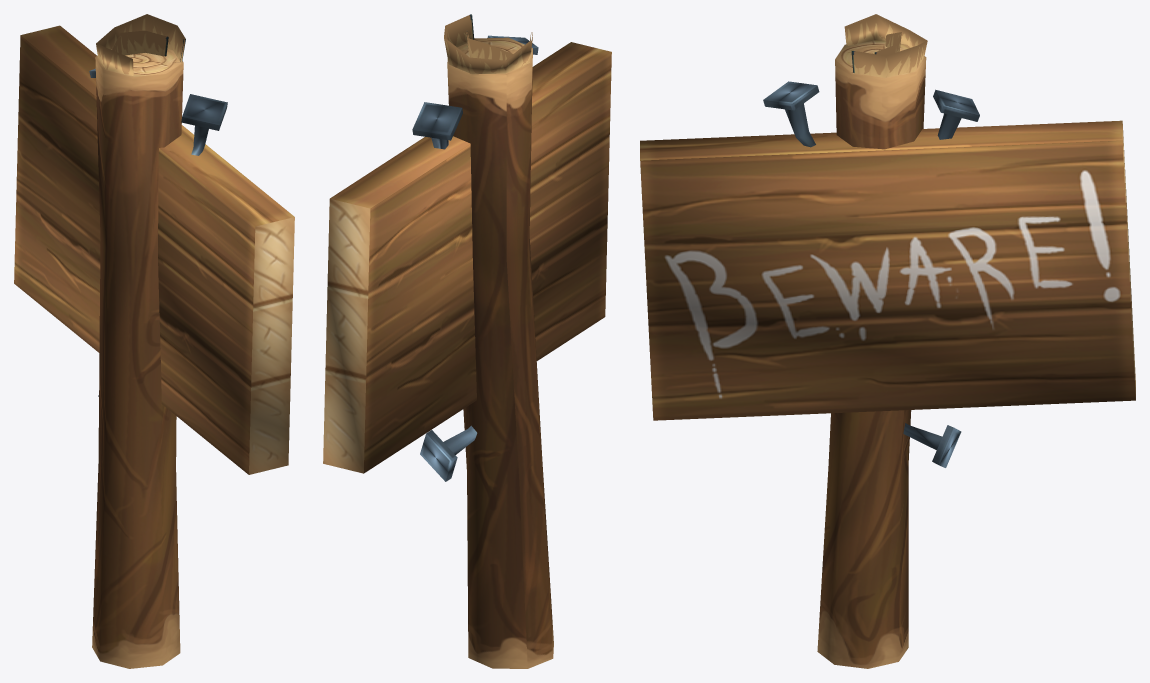
Rendered from sign_01.fbx.
The picture shows the model from 3 angles, left to right: view 1: azimuth 30°, elevation 25°; view 2: azimuth 150°, elevation 25°; view 3: azimuth 270°, elevation 25°; orthographic projection. The views are drawn at different scales.
Parts seen in each view (by area): view 1: sign_01; view 2: sign_01; view 3: sign_01.
Boxes of the visible parts, left/top/right/bottom form: sign_01: left=14, top=14, right=294, bottom=668; sign_01: left=323, top=14, right=611, bottom=668; sign_01: left=640, top=14, right=1135, bottom=668.
Bounding box in the file's own units: 0.7807 × 4.74 × 3.41.
